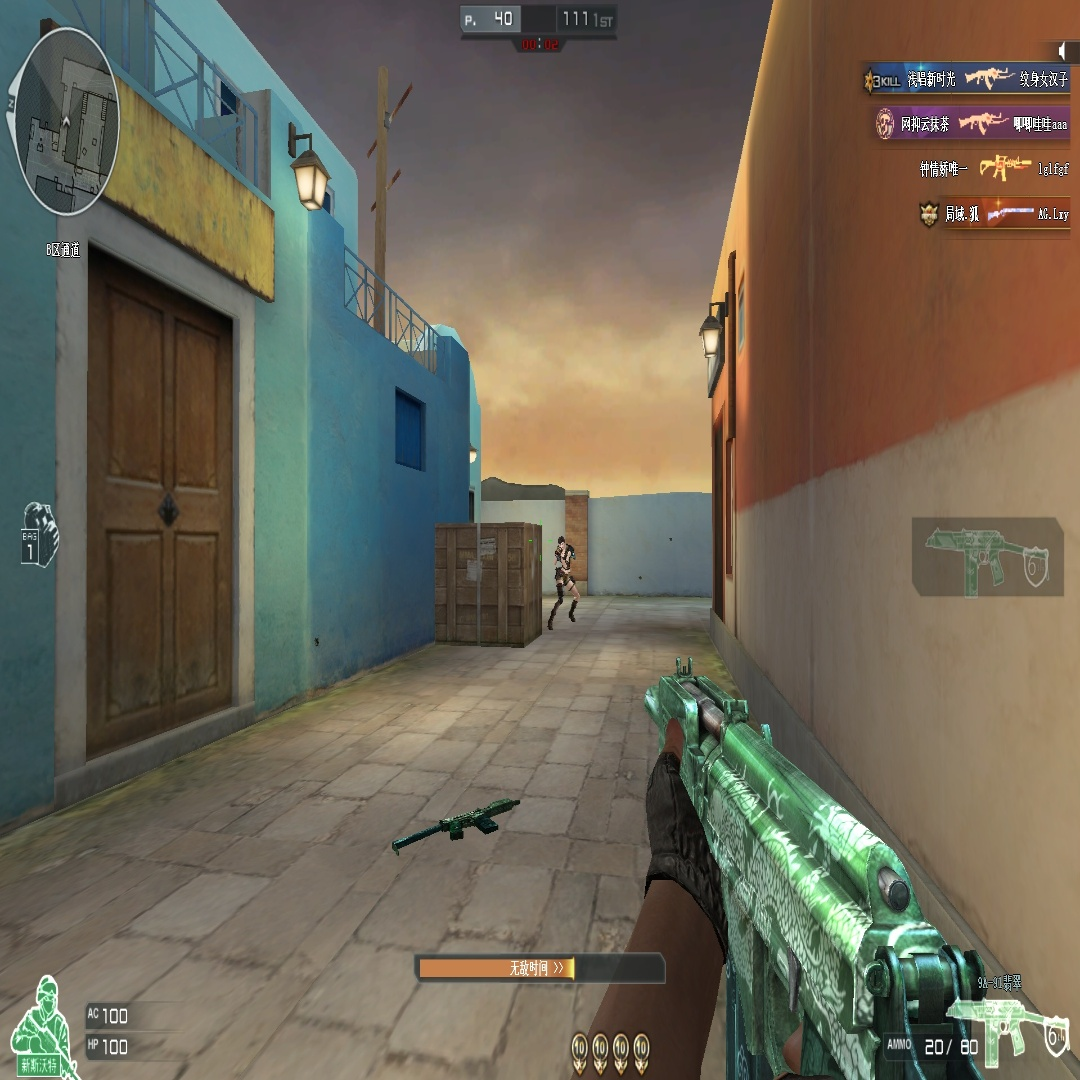p: (548, 536, 580, 631)
